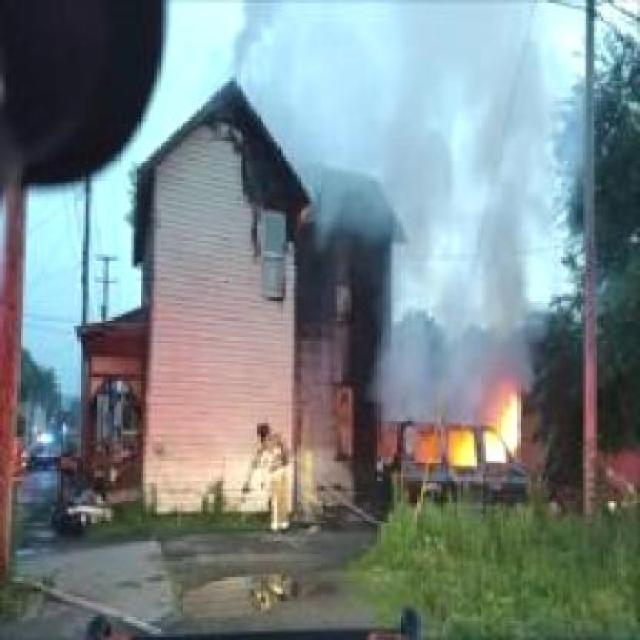Fire: (413, 384, 522, 467)
Smoke: (227, 0, 566, 382)
